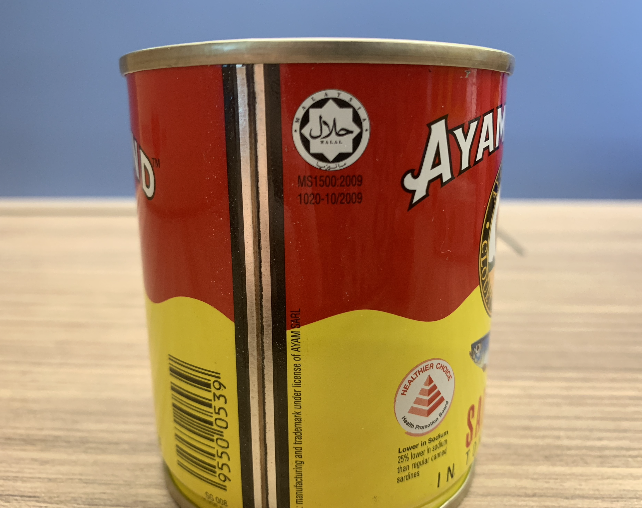halal: (304, 103, 358, 156)
